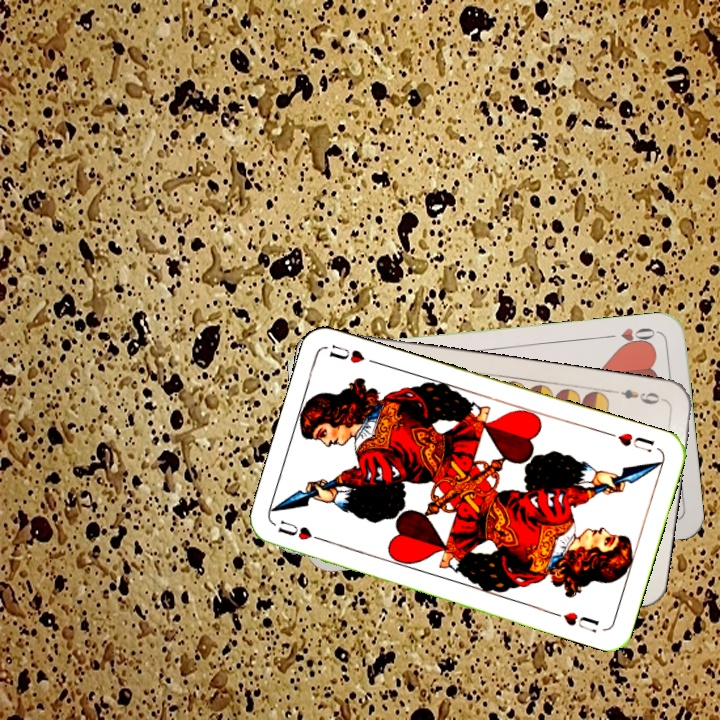E9: (617, 385, 667, 407)
HO: (601, 323, 660, 350)
HU: (274, 516, 330, 545), (603, 428, 657, 455)
